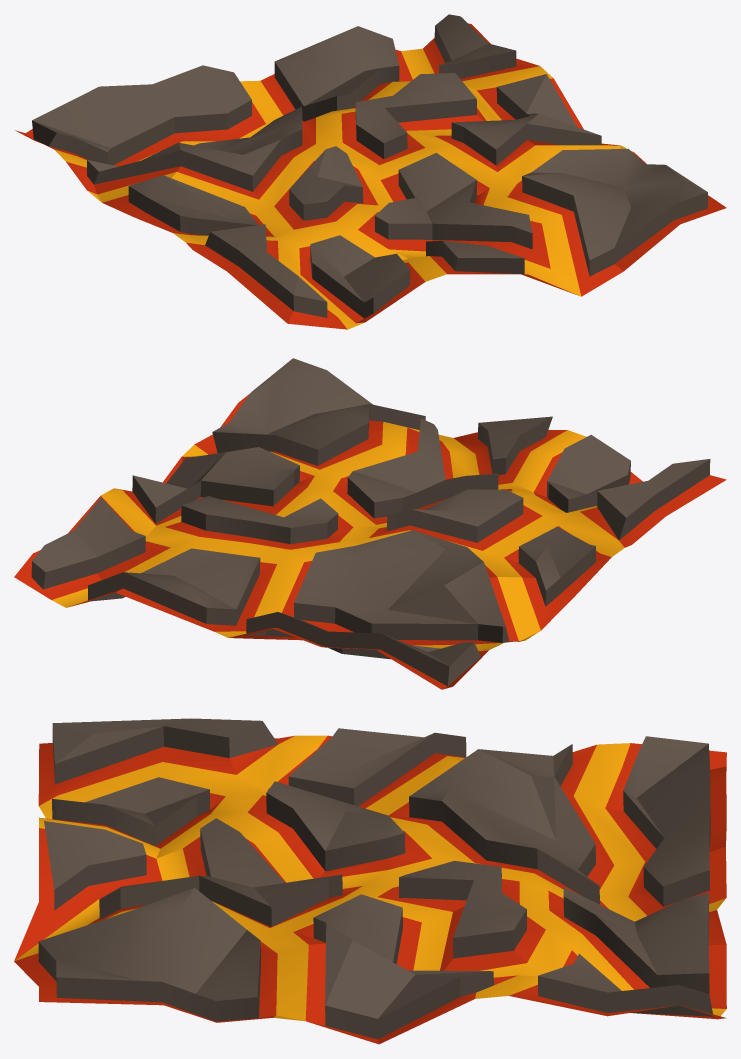
File: Tile_Lava.fbx
3 views of the same model, one above another, from view 1: azimuth 30°, elevation 25°; view 2: azimuth 150°, elevation 25°; view 3: azimuth 270°, elevation 25° (orthographic). The views are drawn at different scales.
Parts seen in each view (by area): view 1: Plane.006; view 2: Plane.006; view 3: Plane.006.
Boxes of the visible parts, x1,y1,x2,y2 form: Plane.006: [15, 14, 726, 329]; Plane.006: [14, 358, 726, 689]; Plane.006: [14, 718, 726, 1044].
Bounding box in the file's own units: 147 × 21.46 × 164.
Materials: 1 (1 with a texture image).
